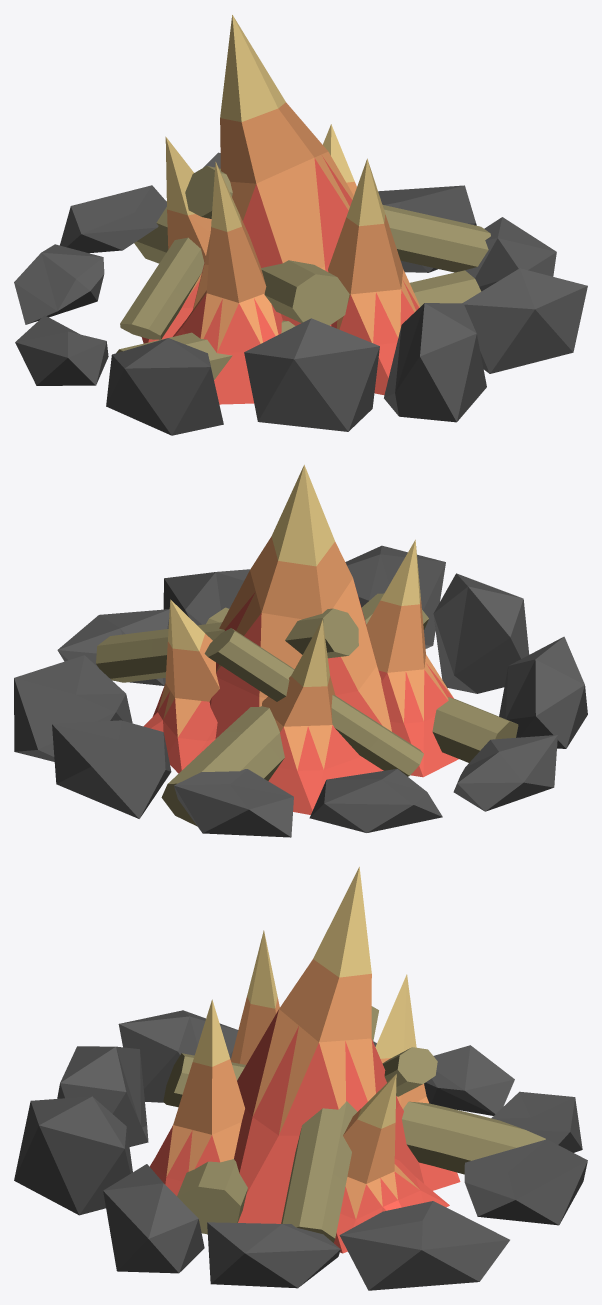
The model's file is CampFire.fbx.
3 views of the same model, one above another, from view 1: azimuth 30°, elevation 25°; view 2: azimuth 150°, elevation 25°; view 3: azimuth 270°, elevation 25° (orthographic).
Visible parts, largest first — view 1: Rocks, Fire, Wood; view 2: Rocks, Fire, Wood; view 3: Rocks, Fire, Wood.
Boxes of the visible parts, x1,y1,x2,y2 form: Rocks: [14, 152, 587, 435]; Fire: [141, 15, 419, 404]; Wood: [116, 166, 490, 379]; Rocks: [14, 545, 587, 837]; Fire: [143, 465, 458, 814]; Wood: [96, 593, 518, 826]; Rocks: [14, 1010, 587, 1290]; Fire: [149, 866, 460, 1253]; Wood: [163, 1006, 545, 1242].
Bounding box in the file's own units: 1.14 × 0.6884 × 1.15.
